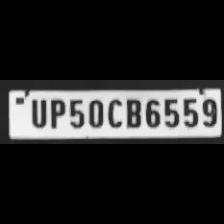0: (85, 96, 105, 128)
5: (65, 97, 85, 129), (160, 96, 180, 128), (180, 94, 198, 128)
6: (142, 96, 162, 128)
9: (199, 96, 219, 127)
B: (122, 96, 142, 128)
C: (104, 96, 122, 128)
P: (46, 97, 66, 129)
U: (26, 97, 48, 128)
